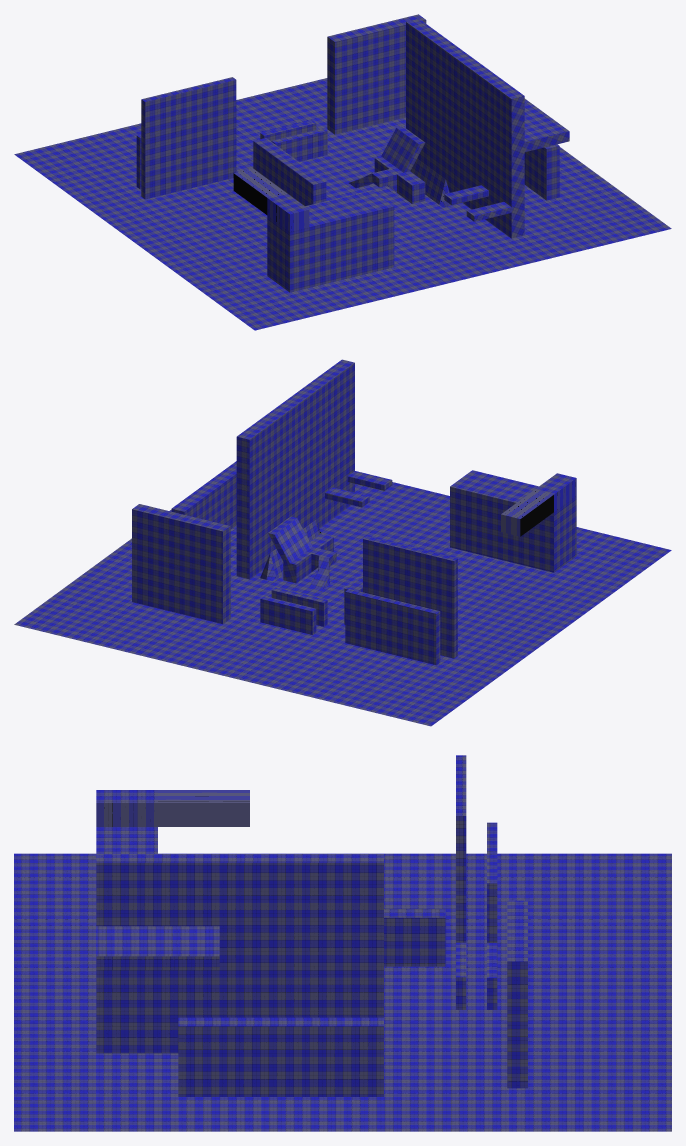
Rendered from World6.glb.
The picture shows the model from 3 angles, top to bottom: view 1: azimuth 30°, elevation 25°; view 2: azimuth 150°, elevation 25°; view 3: azimuth 270°, elevation 25°; orthographic projection. The views are drawn at different scales.
Visible parts, largest first — view 1: Plane; view 2: Plane; view 3: Plane.
Part boxes in pixels (box(x1,y1,x2,y2)): Plane: box(14, 14, 671, 330); Plane: box(14, 359, 671, 726); Plane: box(14, 755, 671, 1131).
Bounding box in the file's own units: 200 × 63.95 × 200.
1 material, 1 textured.
